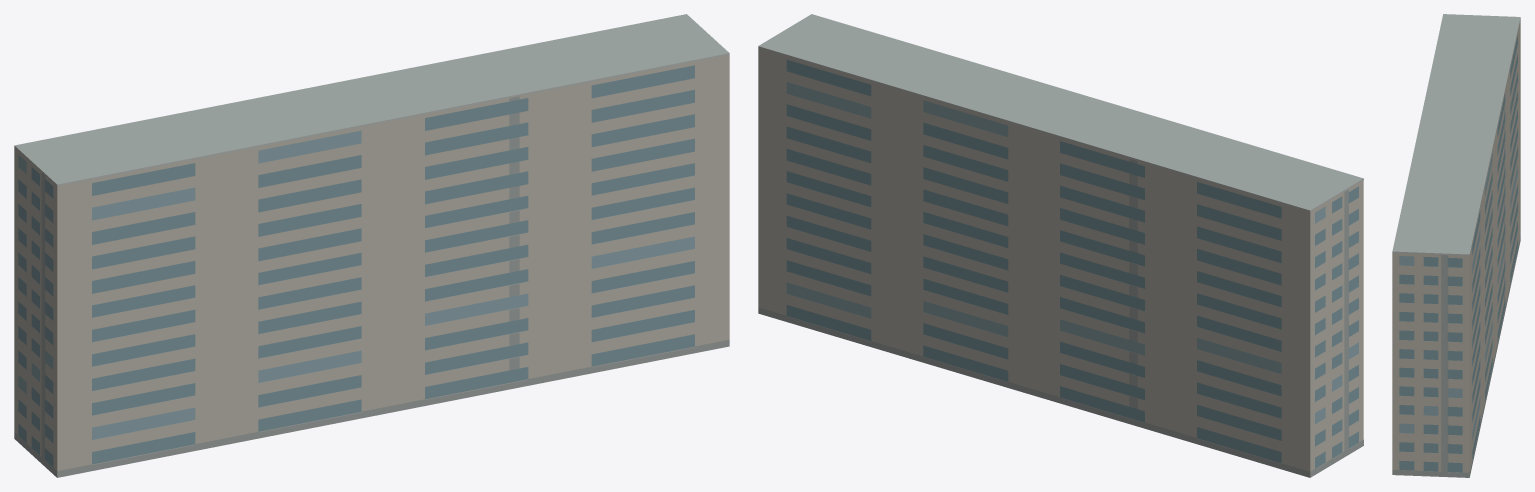
The model's file is residential-d22004ce-70cf-496c-a100-5fac43fbf445.glb.
The picture shows the model from 3 angles, left to right: view 1: azimuth 30°, elevation 25°; view 2: azimuth 150°, elevation 25°; view 3: azimuth 270°, elevation 25°; orthographic projection. The views are drawn at different scales.
Visible parts, largest first — view 1: residential-d22004ce-70cf-496c-a100-5fac43fbf445.tmp; view 2: residential-d22004ce-70cf-496c-a100-5fac43fbf445.tmp; view 3: residential-d22004ce-70cf-496c-a100-5fac43fbf445.tmp.
Boxes of the visible parts, box(x1,y1,x2,y2) form: residential-d22004ce-70cf-496c-a100-5fac43fbf445.tmp: box(14, 14, 729, 477); residential-d22004ce-70cf-496c-a100-5fac43fbf445.tmp: box(758, 14, 1363, 477); residential-d22004ce-70cf-496c-a100-5fac43fbf445.tmp: box(1392, 14, 1520, 477).
Size of the model in its own units: 78.48 by 34 by 17.7.
